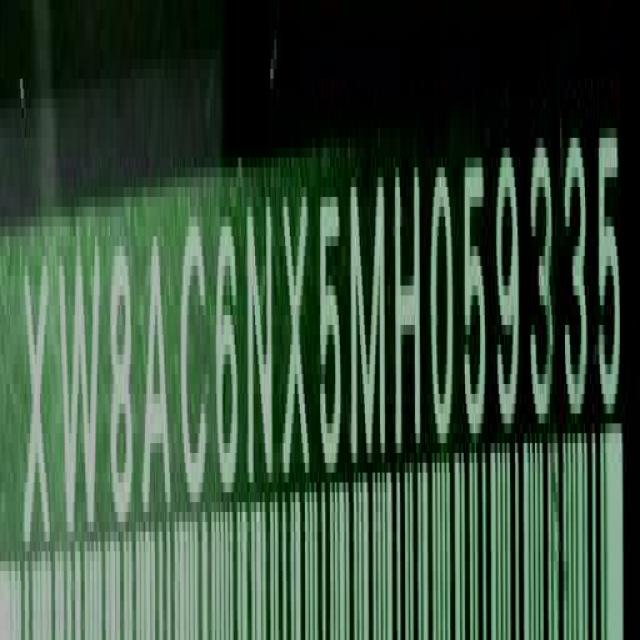0: (430, 157, 456, 454)
3: (528, 138, 556, 437), (566, 126, 592, 428)
5: (318, 179, 343, 482), (600, 118, 624, 424), (465, 150, 489, 449)
6: (214, 208, 242, 505)
8: (111, 236, 136, 529)
9: (497, 147, 522, 442)
A: (144, 224, 172, 524)
C: (182, 214, 210, 512)
H: (394, 150, 422, 456)
M: (352, 171, 386, 472)
N: (246, 197, 274, 499)
W: (60, 235, 101, 550)
X: (282, 180, 314, 489), (22, 245, 52, 565)
